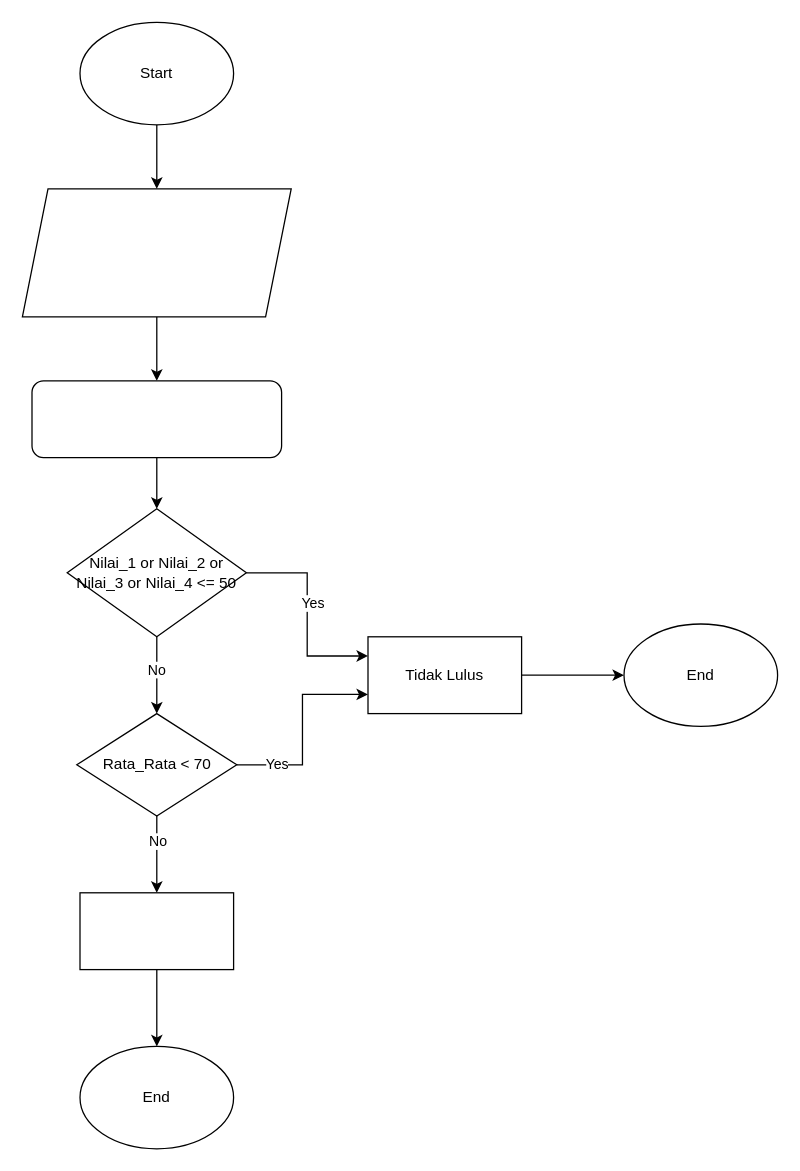
This 800x1171 diagram has some shape labels left out. The centre of each missing label's shape, as x and y in pixels:
"Input Nilai_1,Nilai_2,Nilai_3,Nilai_4" goes at pixel 156 252.
"Lulus" goes at pixel 156 931.
"Rata_Rata = (Nilai_1+Nilai_2+Nilai_3+Nilai_4)/2" goes at pixel 156 419.
